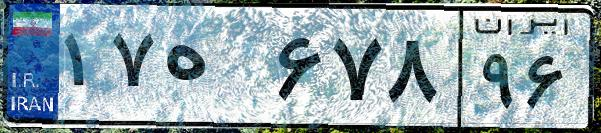1: (57, 26, 110, 100)
6: (270, 28, 330, 110), (525, 38, 570, 115)
7: (330, 28, 385, 110), (110, 28, 158, 98)
8: (385, 28, 445, 110)
9: (475, 38, 525, 113)
ه: (158, 20, 270, 120)
